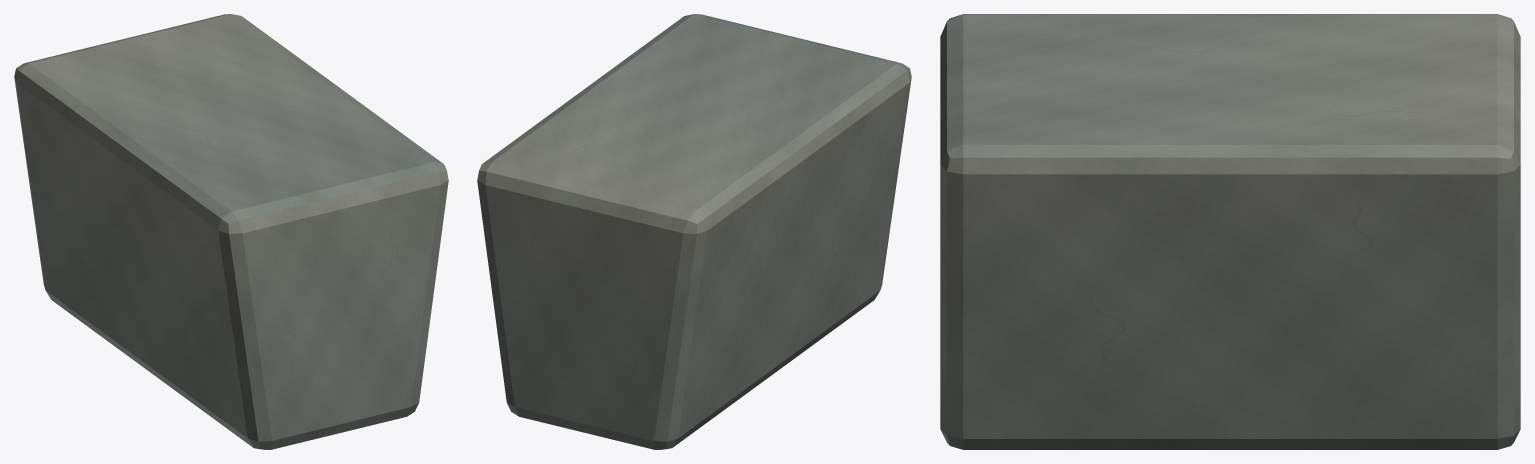
Rendered from forest_stone_arch_block.glb.
3 renders of one model, left to right at view 1: azimuth 30°, elevation 25°; view 2: azimuth 150°, elevation 25°; view 3: azimuth 270°, elevation 25°, orthographic. The views are drawn at different scales.
Parts seen in each view (by area): view 1: Stone bridge arch voussoir; view 2: Stone bridge arch voussoir; view 3: Stone bridge arch voussoir.
Boxes of the visible parts, x1=… form: Stone bridge arch voussoir: x1=14, y1=14, x2=448, y2=449; Stone bridge arch voussoir: x1=477, y1=14, x2=911, y2=449; Stone bridge arch voussoir: x1=940, y1=14, x2=1520, y2=449.
Bounding box in the file's own units: 0.2402 × 0.2475 × 0.4.
1 material, 1 textured.
